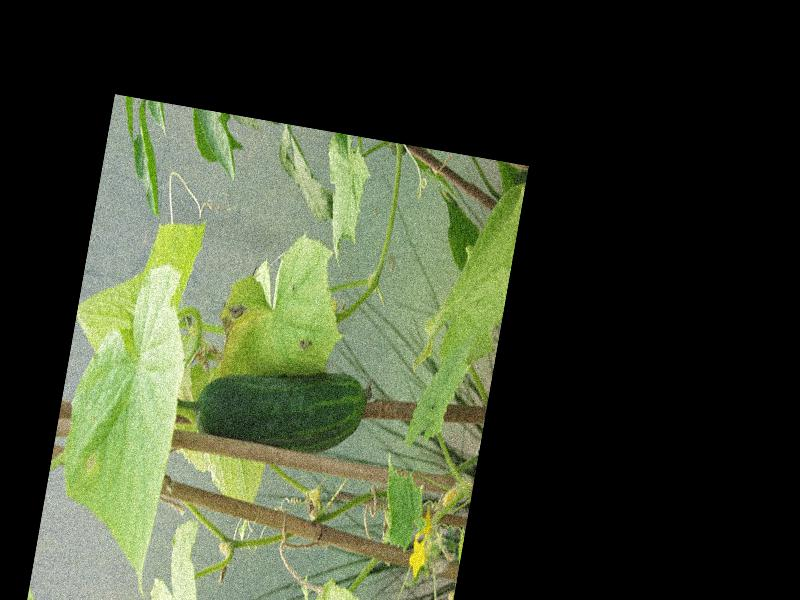Cucumber: (191, 348, 373, 462)
